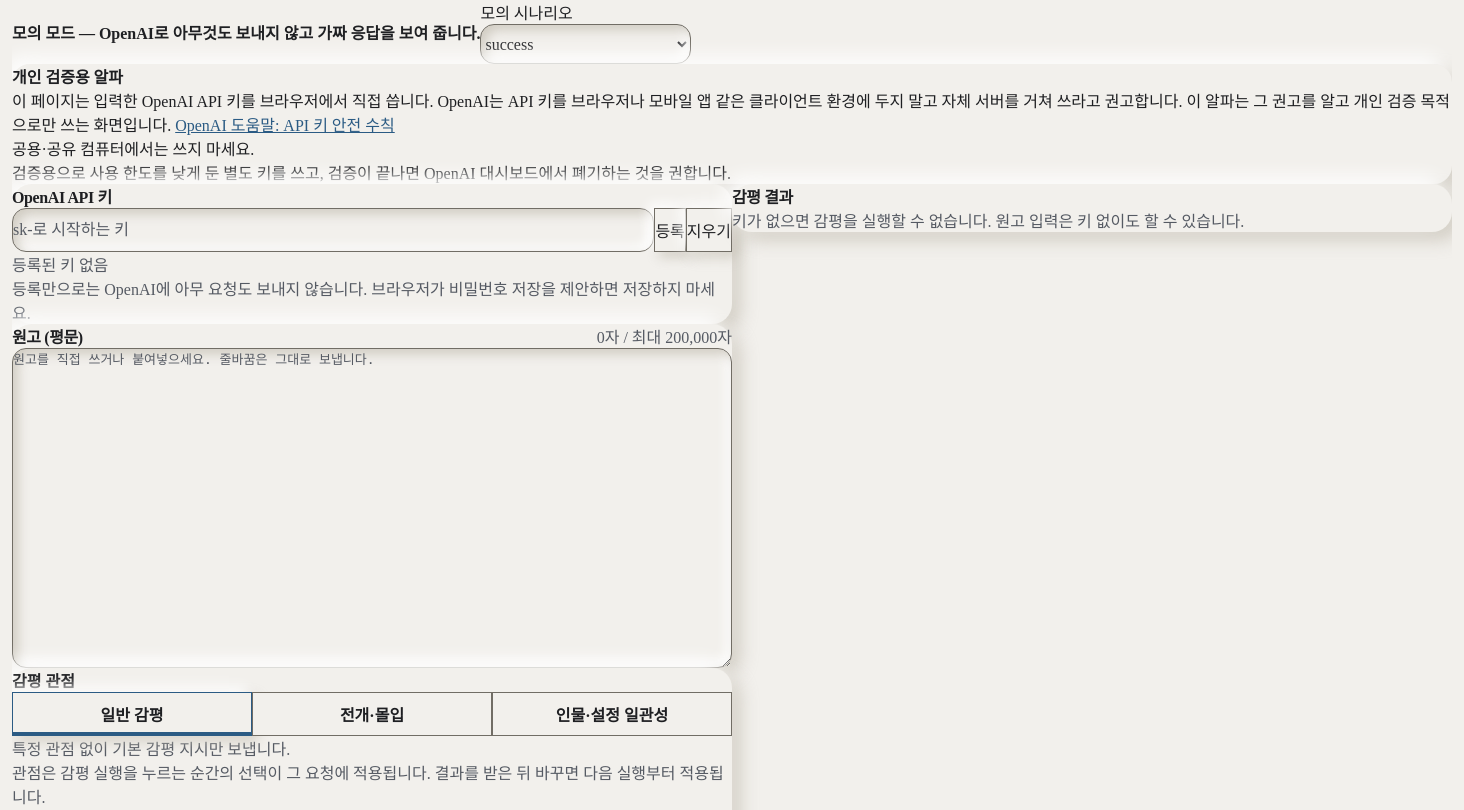
Test: QuickReview (알파 빠른 감평) › 잘못된 키는 등록하지 않는다
In the password field labelled "OpenAI API 키": (333, 230) left=12, top=208, right=654, bottom=252, type "sk-short"
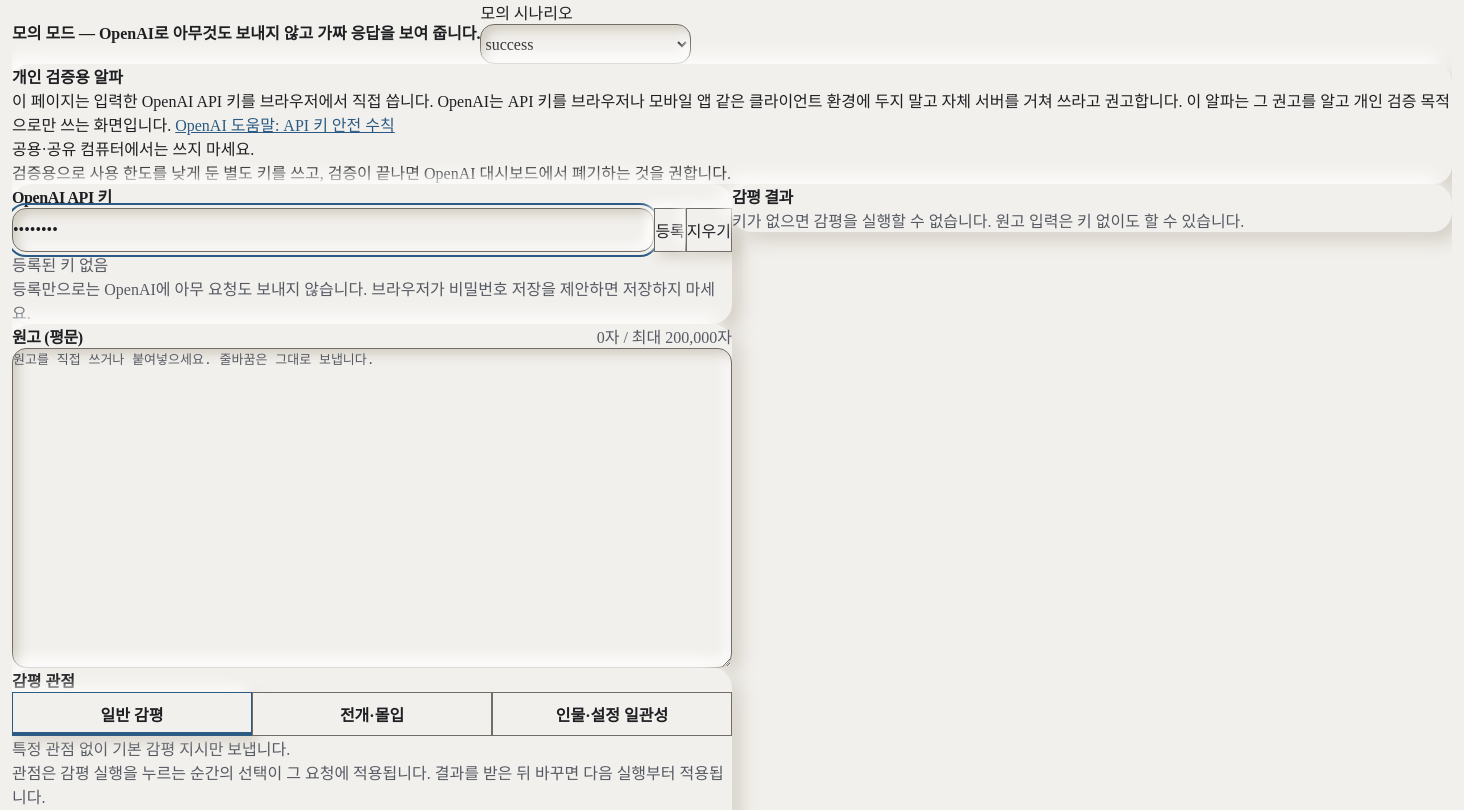
Click the button "등록": (670, 230) left=654, top=208, right=686, bottom=252
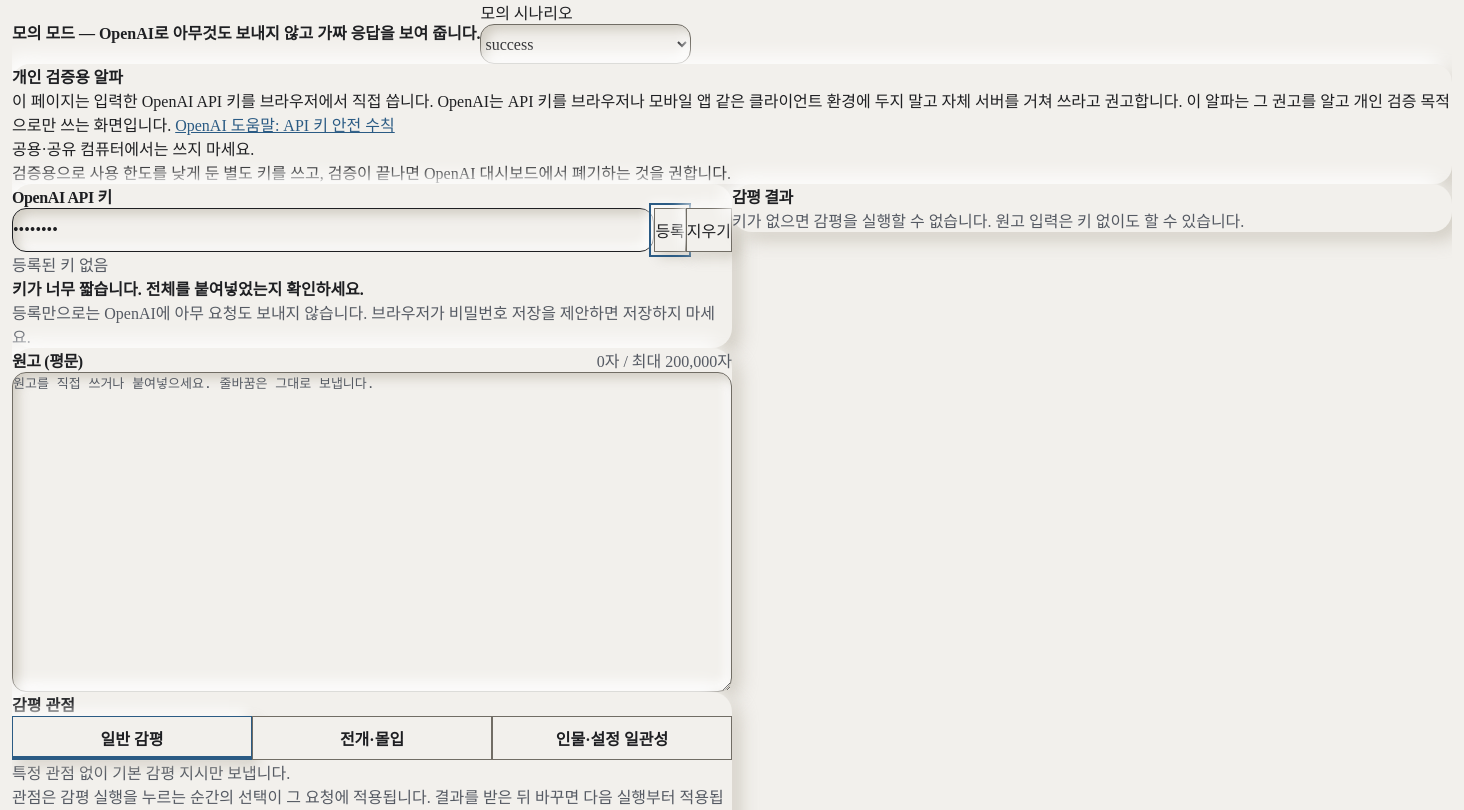
Result: the message "키가 너무 짧습니다. 전체를 붙여넣었는지 확인하세요." is shown at left=12, top=281, right=364, bottom=298
